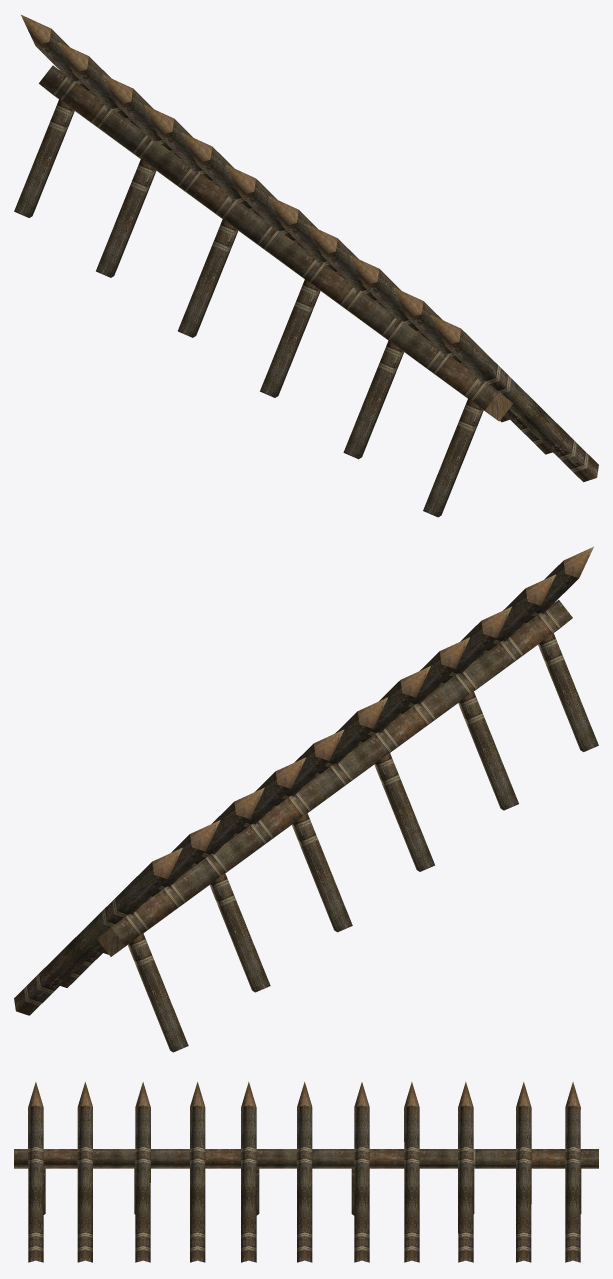
The model's file is w_cd_mc_bari.glb.
3 renders of one model, top to bottom at view 1: azimuth 30°, elevation 25°; view 2: azimuth 150°, elevation 25°; view 3: azimuth 270°, elevation 25°, orthographic. The views are drawn at different scales.
Parts seen in each view (by area): view 1: W_CD_mc_bari_body, W_CD_mc_bari_edge; view 2: W_CD_mc_bari_body, W_CD_mc_bari_edge; view 3: W_CD_mc_bari_body, W_CD_mc_bari_edge.
Boxes of the visible parts, <box> form: W_CD_mc_bari_body: <box>14,29,598,517</box>; W_CD_mc_bari_edge: <box>21,15,513,421</box>; W_CD_mc_bari_body: <box>14,561,598,1052</box>; W_CD_mc_bari_edge: <box>97,546,593,956</box>; W_CD_mc_bari_body: <box>14,1105,598,1262</box>; W_CD_mc_bari_edge: <box>28,1081,580,1107</box>.
Bounding box in the file's own units: 1.4 × 1.57 × 6.2.
2 materials, 2 textured.
